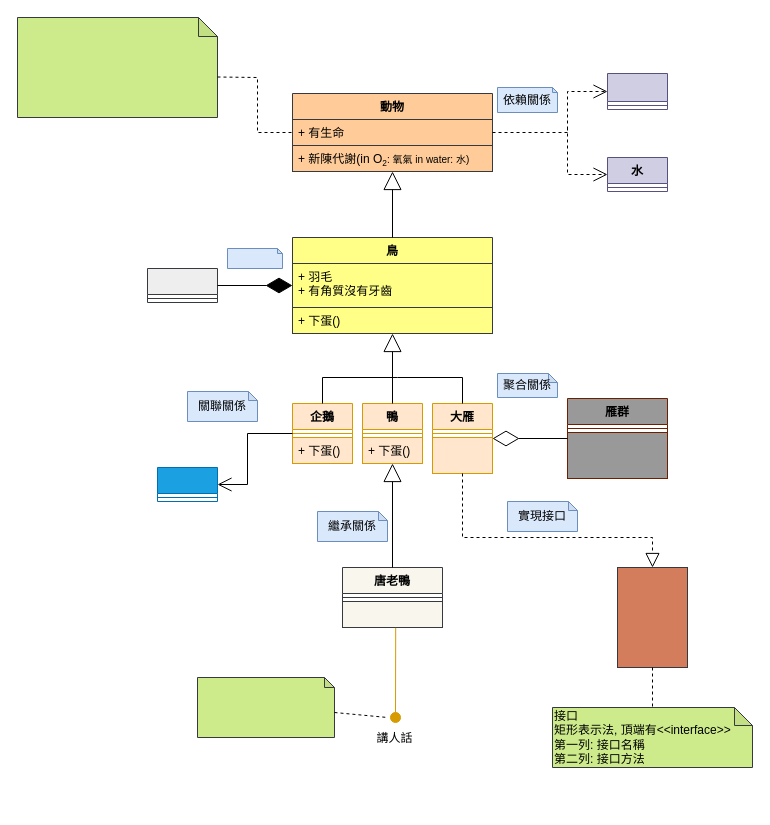
Image size: 770x825. Some labels were removed from this diagram. Here are the shapes that lost their labels. From the top down, the centre of each, then its label:
the point at 117,67: 類 第一列: 類名稱 第二列: 屬性 第三列: 方法 類名為斜體字則為抽象類
the point at 637,91: 氧氣
the point at 254,258: 組合關係
the point at 182,285: 翅膀
the point at 462,455: + 下蛋() + 飛()
the point at 617,455: + V形飛行() + 一形飛行()
the point at 187,484: 氣候
the point at 392,614: + 講話()
the point at 652,617: <<Interface>> 飛翔 + 飛()
the point at 265,707: 接口 棒棒糖表示法, 圓圈旁為接口名稱 接口方法在現實類中出現
